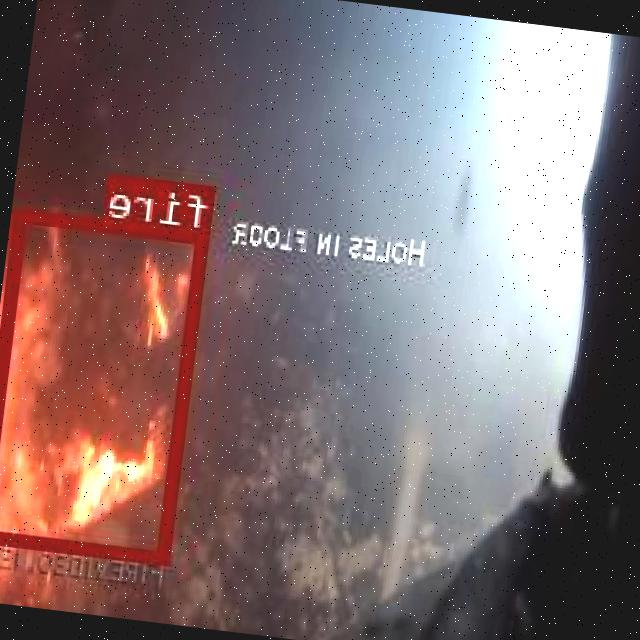fire: (0, 207, 211, 561)
